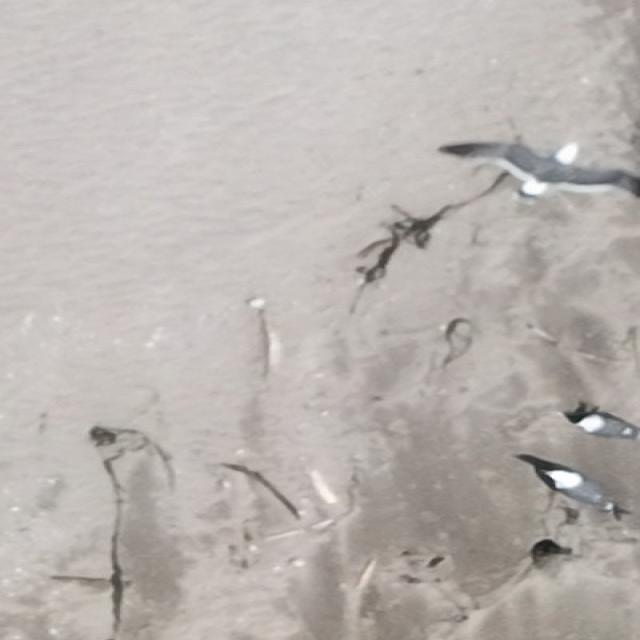F: (462, 140, 636, 201)
umineko: (539, 468, 619, 515), (576, 414, 632, 438)
